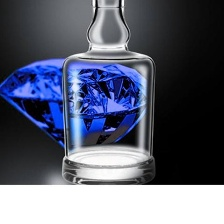bottle: (60, 0, 159, 183)
